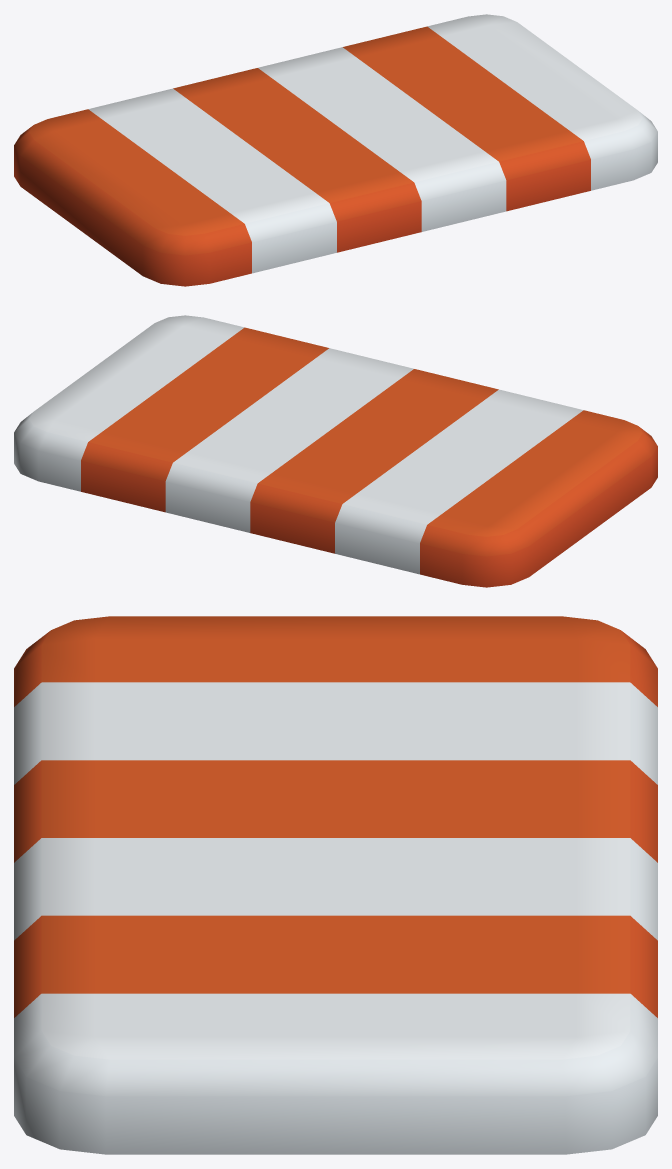
Rendered from doormat.fbx.
3 views of the same model, one above another, from view 1: azimuth 30°, elevation 25°; view 2: azimuth 150°, elevation 25°; view 3: azimuth 270°, elevation 25° (orthographic). The views are drawn at different scales.
Parts seen in each view (by area): view 1: doormat; view 2: doormat; view 3: doormat.
Boxes of the visible parts, x1,y1,x2,y2 form: doormat: (14, 14, 657, 286); doormat: (14, 315, 657, 587); doormat: (14, 616, 657, 1154).
Size of the model in its own units: 120 by 10 by 70.
